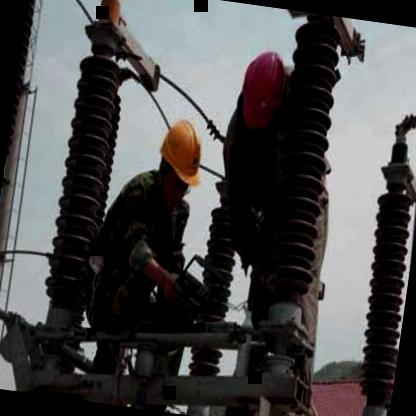helmet: (147, 110, 213, 214), (232, 43, 292, 143)
